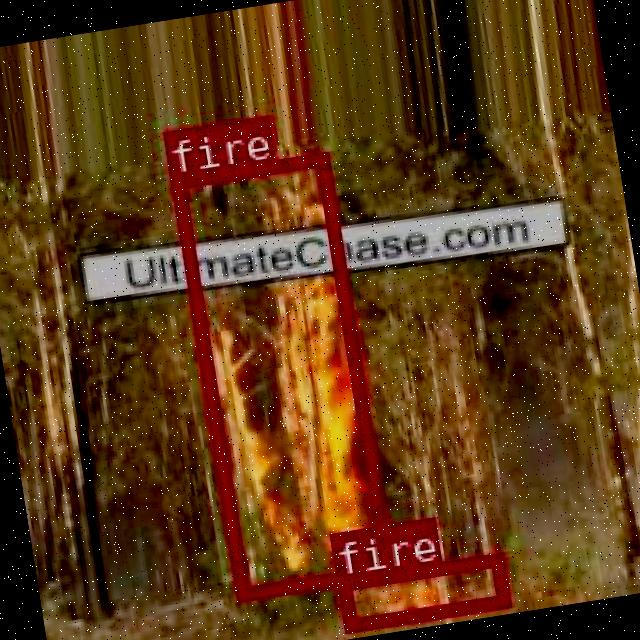fire: (168, 151, 392, 598), (336, 551, 507, 630)
